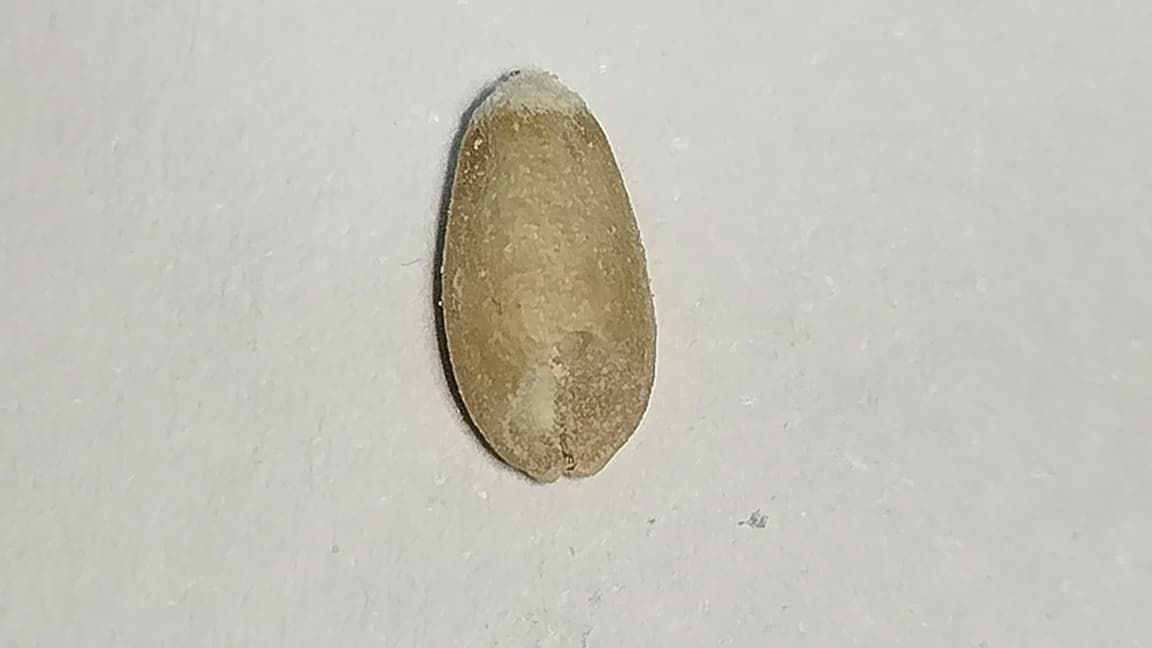damage: (438, 70, 655, 483)
insectdamage: (507, 327, 653, 486)
